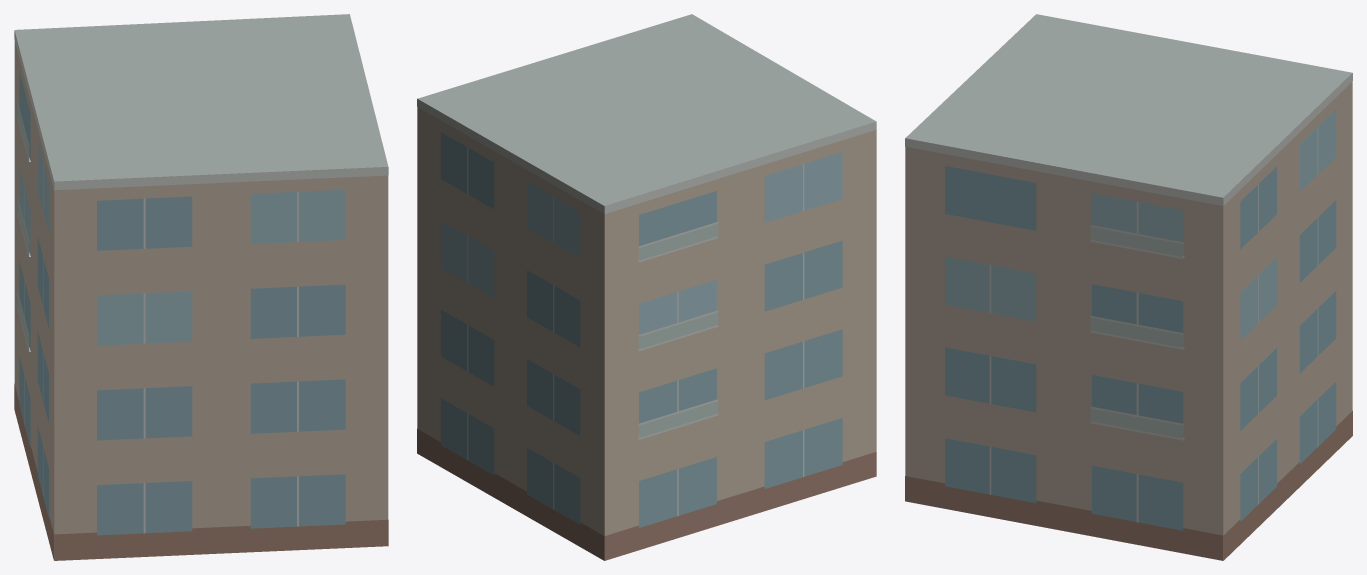
File: survey-upis-32523704.glb
3 views of the same model, side by side, from view 1: azimuth 30°, elevation 25°; view 2: azimuth 150°, elevation 25°; view 3: azimuth 270°, elevation 25° (orthographic). The views are drawn at different scales.
Visible parts, largest first — view 1: survey-upis-32523704.tmp; view 2: survey-upis-32523704.tmp; view 3: survey-upis-32523704.tmp.
Part boxes in pixels (box(x1,y1,x2,y2)): survey-upis-32523704.tmp: box(14, 14, 388, 560); survey-upis-32523704.tmp: box(417, 14, 876, 560); survey-upis-32523704.tmp: box(905, 14, 1352, 560).
Bounding box in the file's own units: 11.57 × 10.65 × 11.91.
